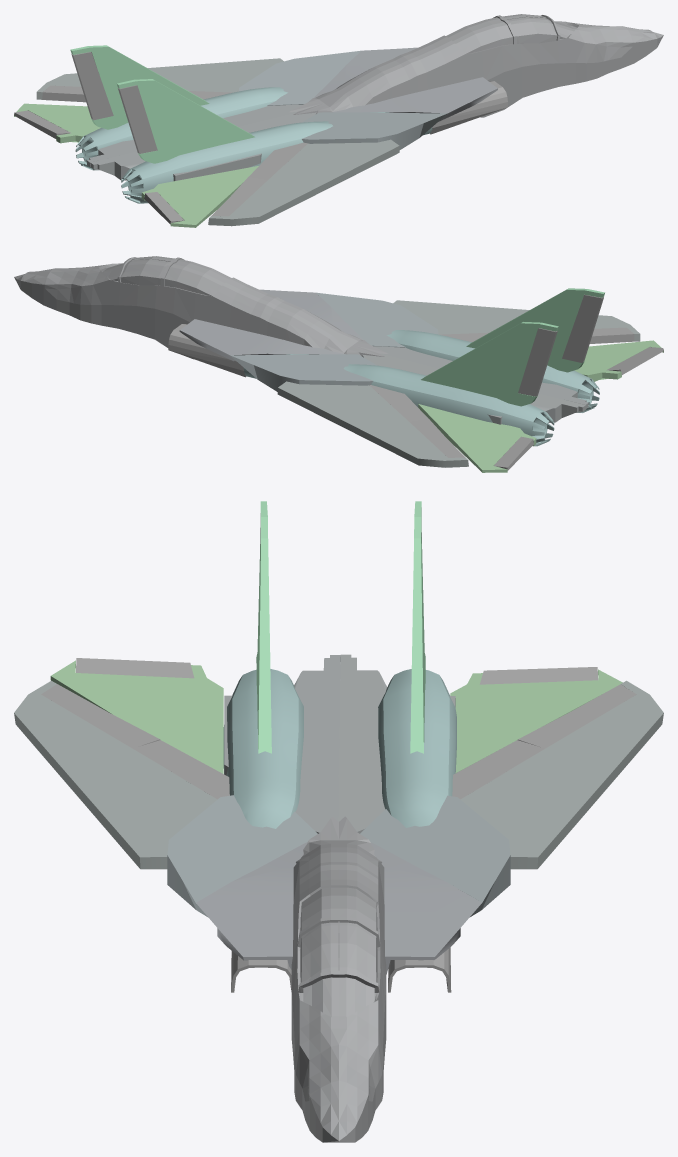
The model's file is F14 Tomcat2.fbx.
3 views of the same model, one above another, from view 1: azimuth 30°, elevation 25°; view 2: azimuth 150°, elevation 25°; view 3: azimuth 270°, elevation 25° (orthographic). The views are drawn at different scales.
Visible parts, largest first — view 1: Right_Cockpit, Top_Wing (×2), Front_Wing_Right, Flap_A (×5), Back_Wing (×2), Engine_A, Engine_B (×2), Shoulder_B_R, Shoulder_B, Front_Wing, Shoulder_A_R, Body_Right (+4 smaller); view 2: CockpitLeft, Top_Wing (×2), Engine_B (×2), Front_Wing, Back_Wing (×2), Flap_A (×5), Shoulder_B, Shoulder_B_R, Front_Wing_Right, Shoulder_A, Engine_A, Right_Cockpit (+4 smaller); view 3: Back_Wing (×2), Front_Wing, Front_Wing_Right, CockpitLeft, Right_Cockpit, Engine_B (×2), Engine_A, Shoulder_B_R, Shoulder_B, Flap_A (×4), Shoulder_A, Shoulder_A_R (+4 smaller).
Boxes of the visible parts, x1,y1,x2,y2 form: Right_Cockpit: [293, 17, 663, 117]; Top_Wing (×2): [70, 45, 254, 163]; Front_Wing_Right: [208, 139, 399, 226]; Flap_A (×5): [14, 52, 307, 224]; Back_Wing (×2): [14, 103, 258, 227]; Engine_A: [121, 112, 432, 203]; Engine_B (×2): [75, 81, 507, 170]; Shoulder_B_R: [302, 112, 447, 149]; Shoulder_B: [239, 50, 361, 105]; Front_Wing: [36, 58, 283, 99]; Shoulder_A_R: [333, 77, 497, 121]; Body_Right: [90, 112, 316, 181]; CockpitLeft: [14, 259, 384, 359]; Top_Wing (×2): [421, 288, 604, 406]; Engine_B (×2): [168, 324, 554, 446]; Front_Wing: [277, 381, 468, 467]; Back_Wing (×2): [418, 340, 663, 472]; Flap_A (×5): [369, 294, 663, 470]; Shoulder_B: [230, 354, 376, 391]; Shoulder_B_R: [316, 292, 438, 347]; Front_Wing_Right: [393, 300, 640, 341]; Shoulder_A: [179, 319, 344, 361]; Engine_A: [387, 330, 599, 412]; Right_Cockpit: [26, 256, 387, 353]; Back_Wing (×2): [50, 660, 622, 773]; Front_Wing: [460, 680, 663, 869]; Front_Wing_Right: [14, 680, 217, 869]; CockpitLeft: [339, 816, 386, 1142]; Right_Cockpit: [291, 816, 338, 1142]; Engine_B (×2): [378, 669, 456, 992]; Engine_A: [223, 669, 303, 828]; Shoulder_B_R: [167, 795, 317, 916]; Shoulder_B: [360, 795, 510, 916]; Flap_A (×4): [76, 658, 597, 799]; Shoulder_A: [370, 842, 481, 974]; Shoulder_A_R: [196, 842, 307, 969].
Bounding box in the file's own units: 31.13 × 6.79 × 18.32.
